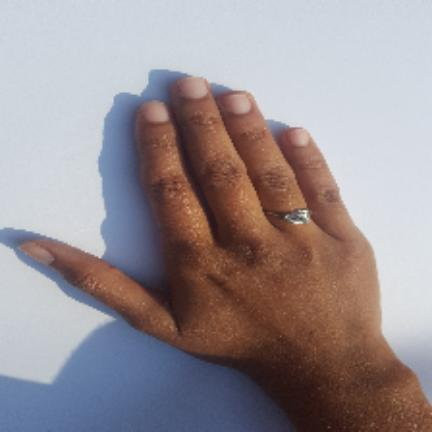Nail: (19, 241, 54, 265), (177, 77, 208, 99), (141, 101, 170, 122), (223, 94, 251, 114), (287, 128, 310, 147)
